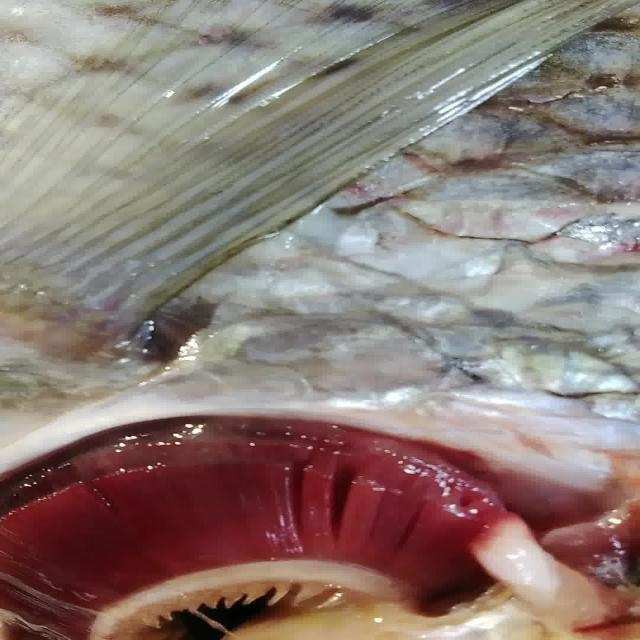Fresh: (4, 390, 569, 627)
